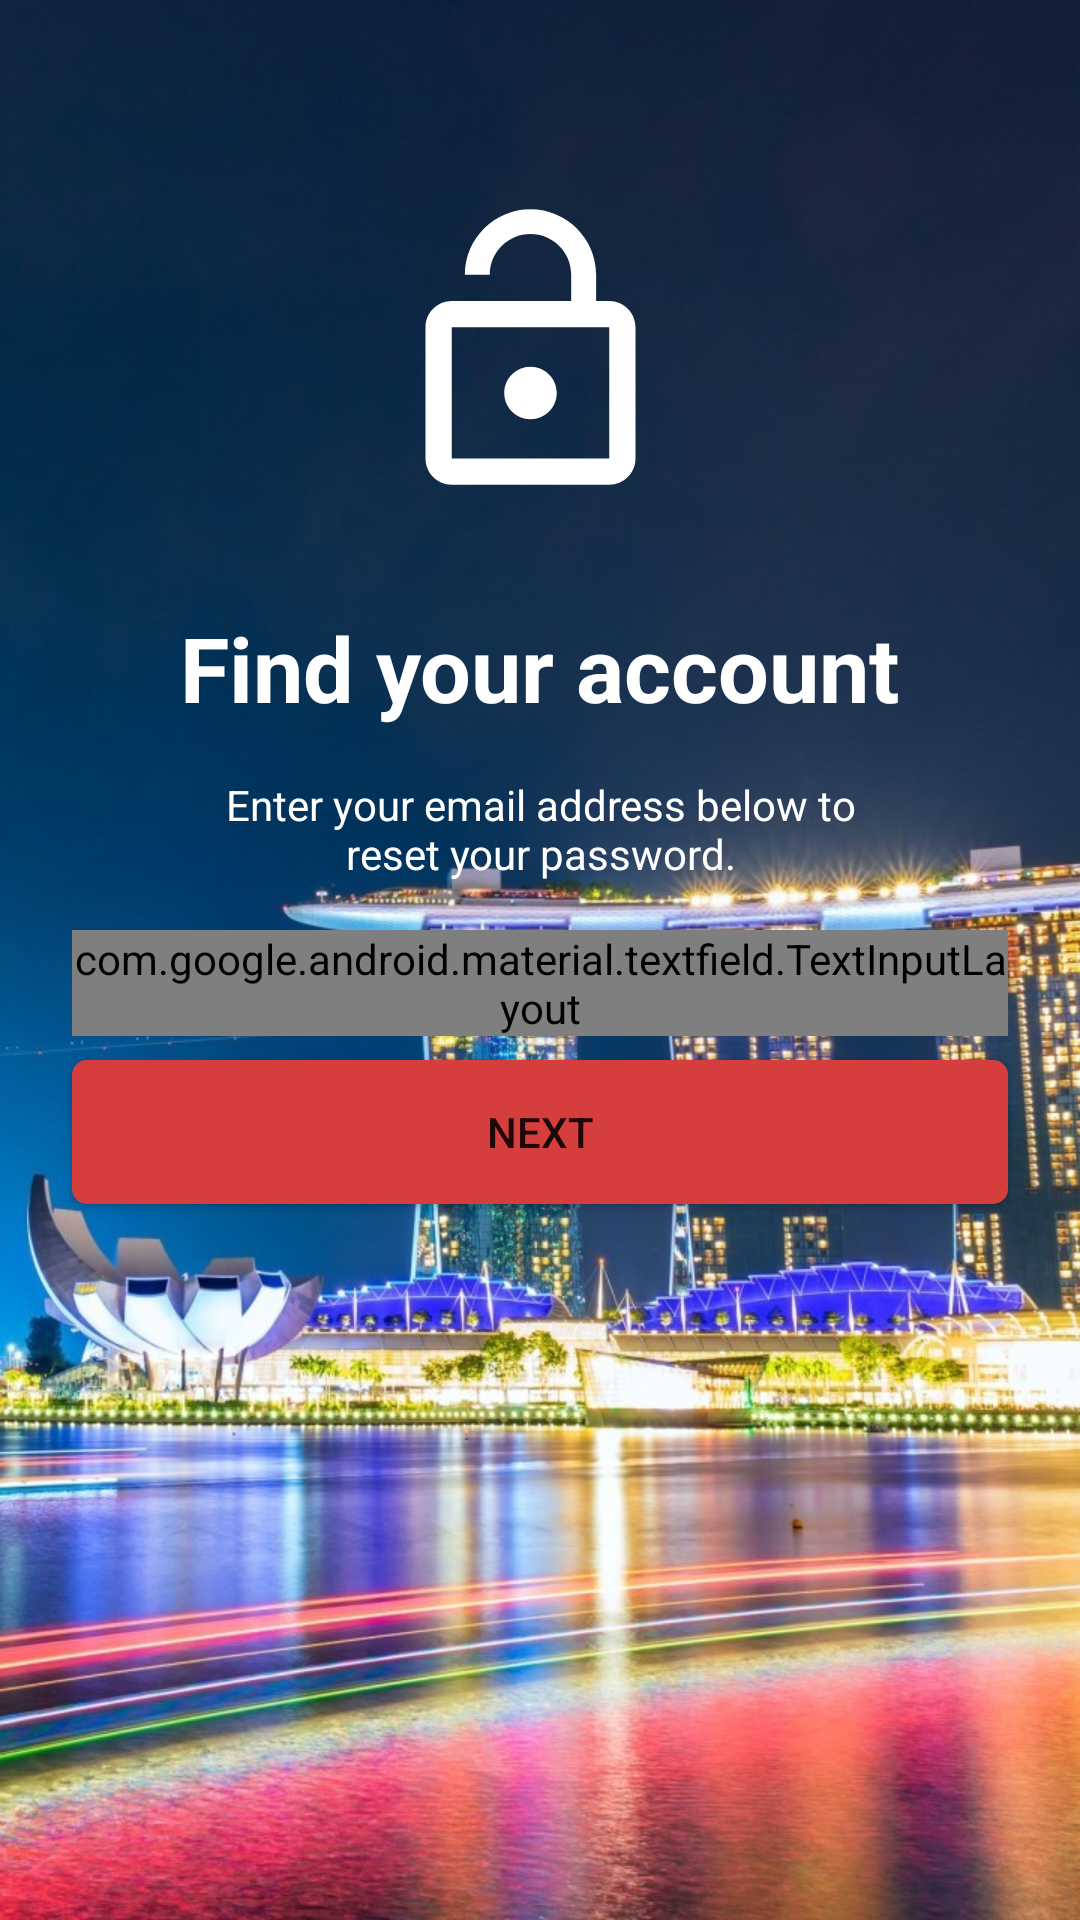

Icons on this 1080 x 1920 Android screen, each with its box as (x1, y1, x2, y2):
lock open: (425, 209, 636, 485)
